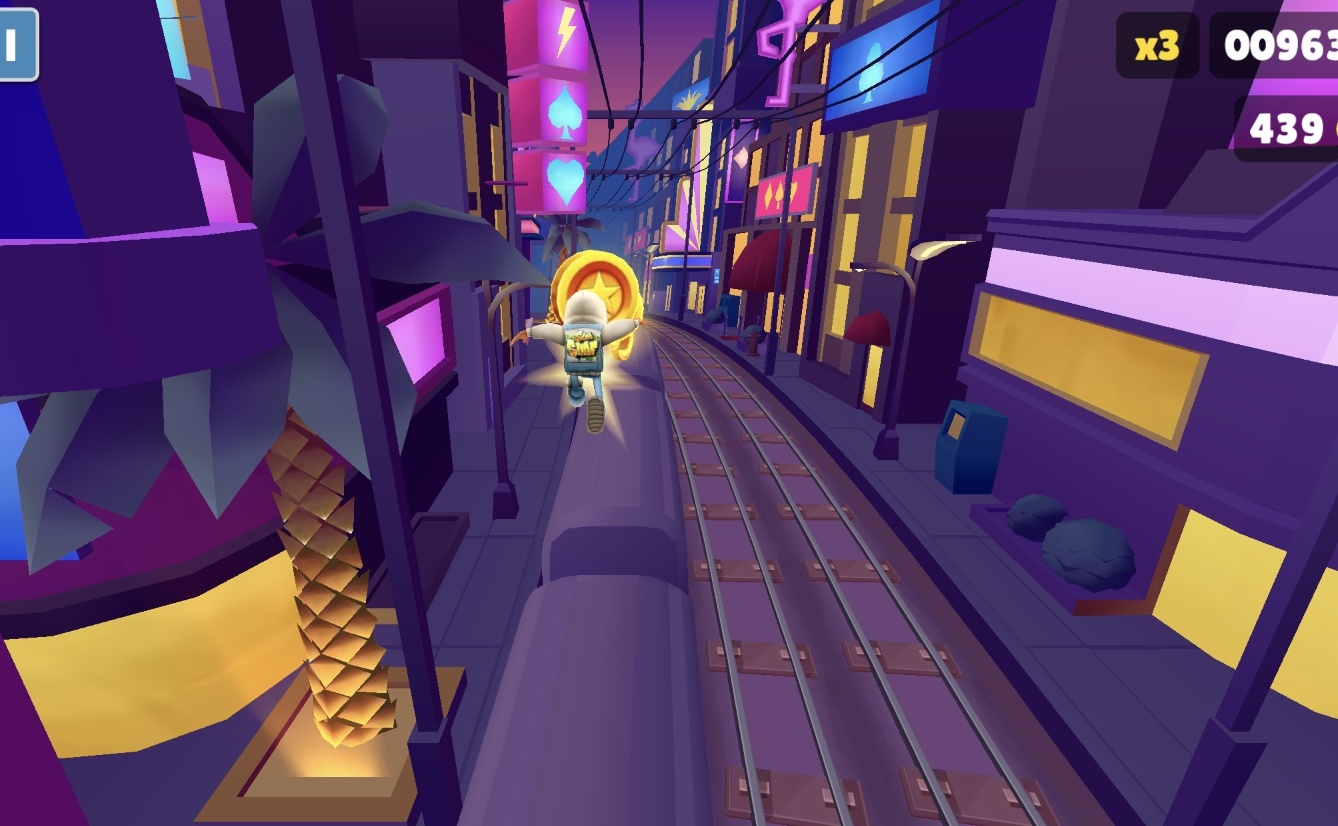train: (487, 367, 756, 826)
